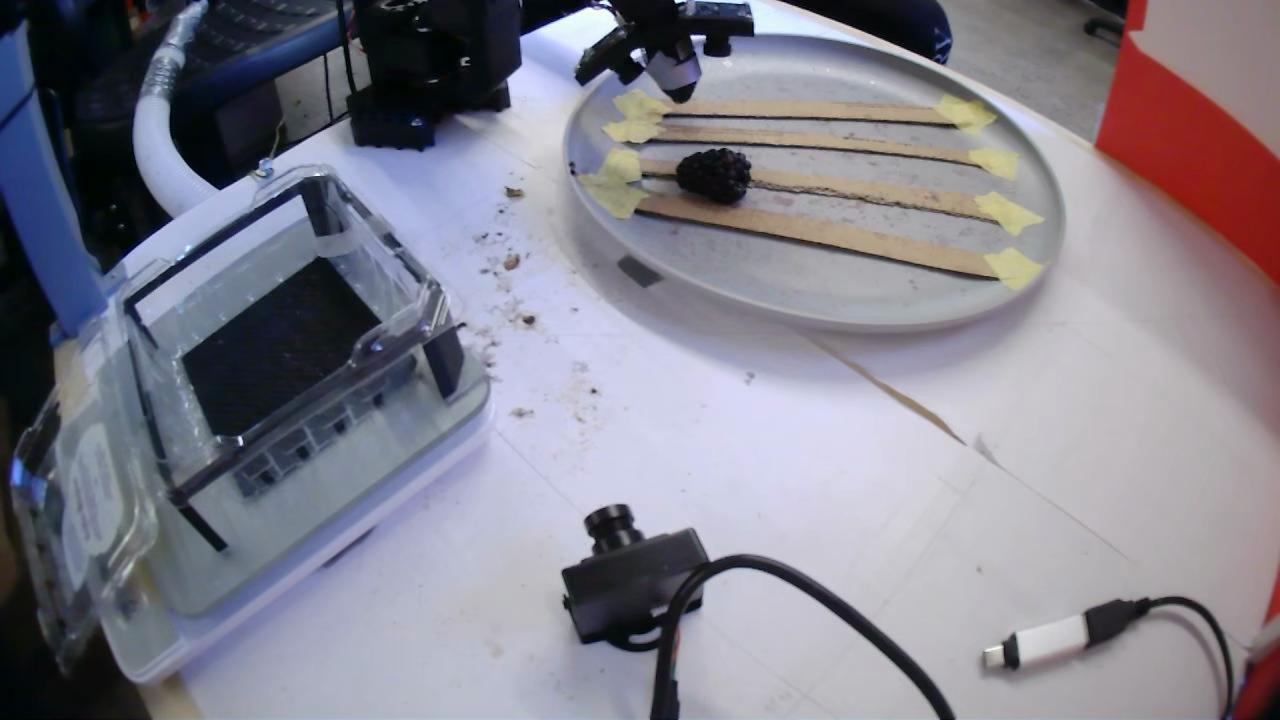berry: (675, 148, 751, 204)
